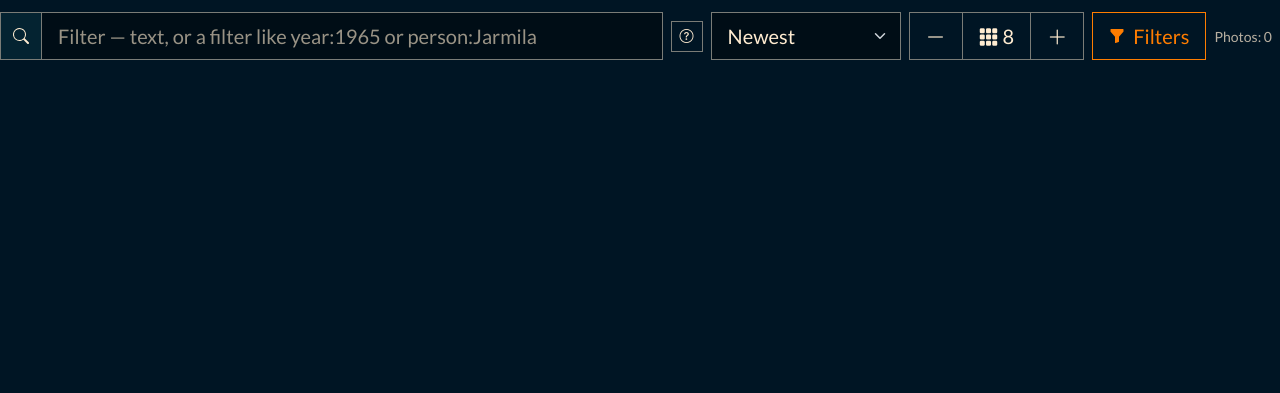
Scenario: FilterBar header › toggles the advanced panel open and closed
Click the button "Filters": (1149, 36) x1=1092 y1=12 x2=1206 y2=60
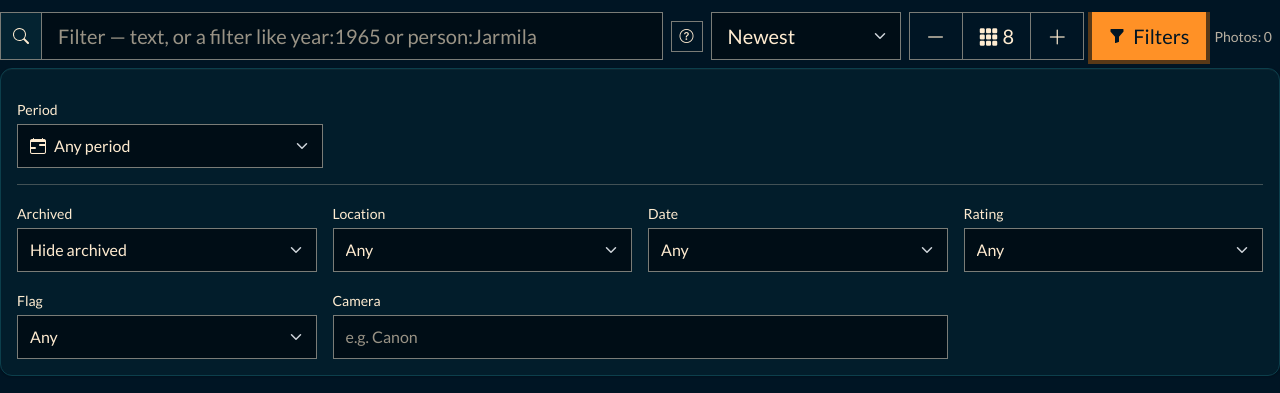
expect the button "Filters" is expanded: met
Click the button "Filters": (1149, 36) x1=1092 y1=12 x2=1206 y2=60
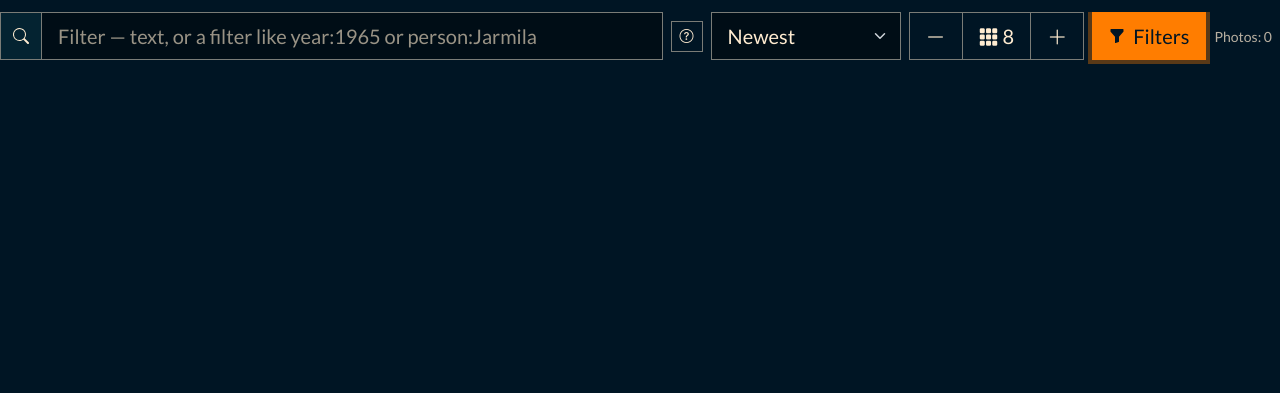
expect the button "Filters" is collapsed: met, box x1=1092 y1=12 x2=1206 y2=60
